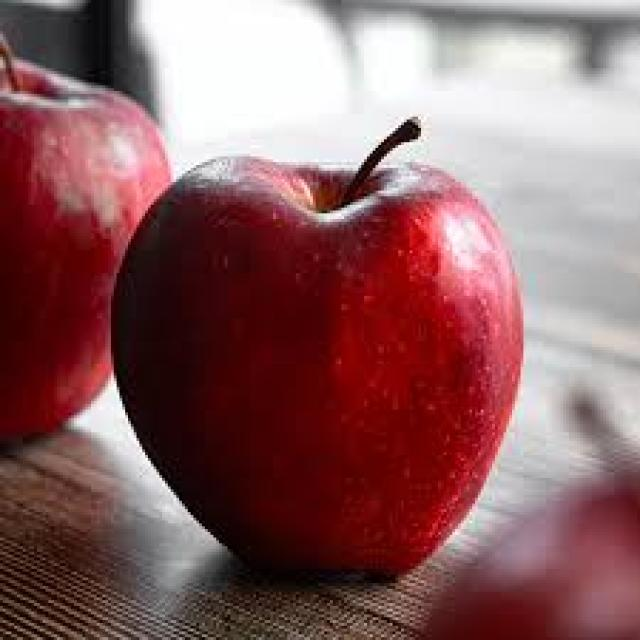apple: (114, 138, 553, 600)
